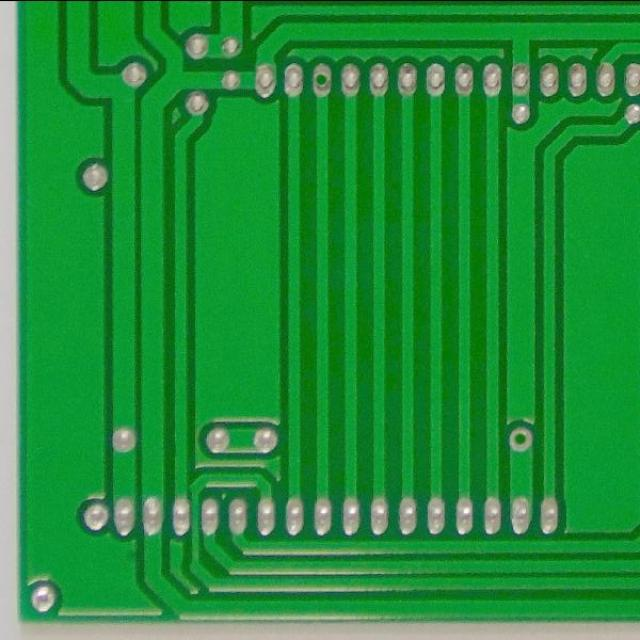Missing_Hole: (308, 62, 336, 99), (506, 424, 536, 454)
